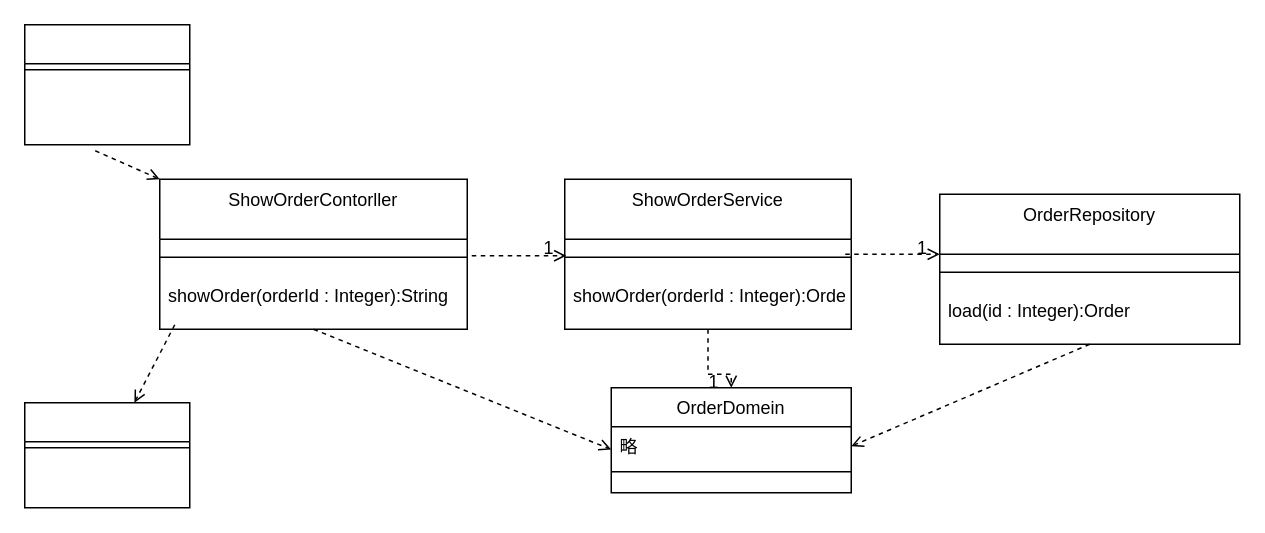
The diagram is 1265 pixels wide and 533 high, and some of its shapes have lost their labels. The shapes that lost their labels are listed below. From the top down, each one's centre as x and y in pixels, then its label:
At pixel 106 84: "cart_list.html".
At pixel 106 454: "order_confirm.html".
